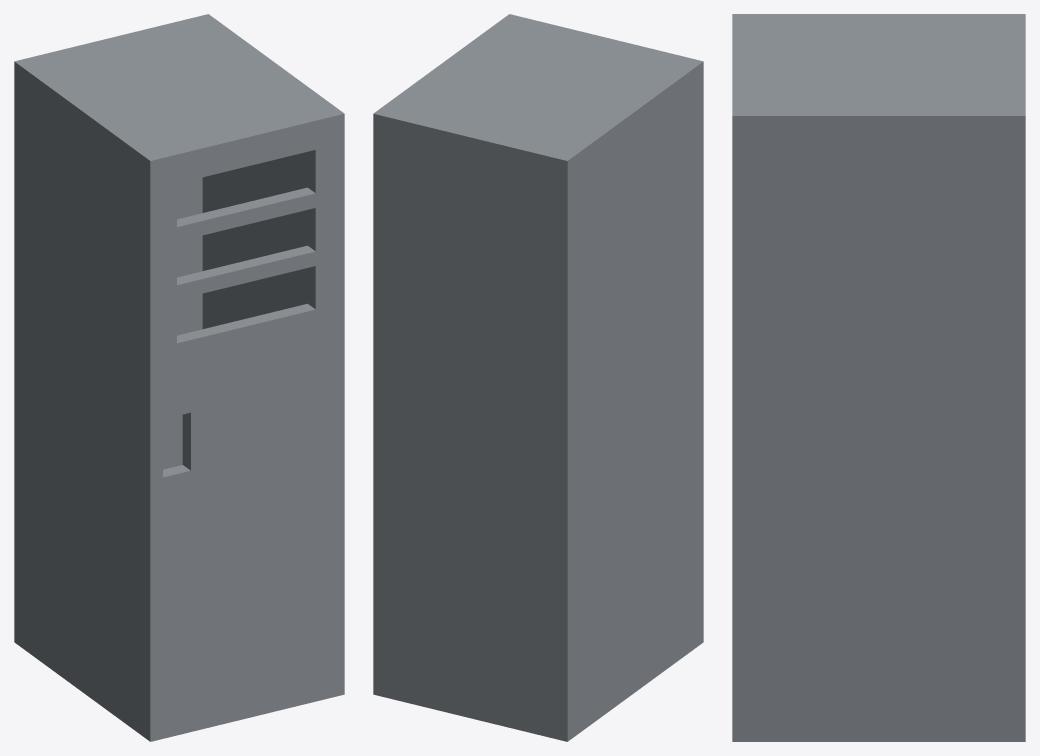
The model's file is cabinet.fbx.
The picture shows the model from 3 angles, left to right: view 1: azimuth 30°, elevation 25°; view 2: azimuth 150°, elevation 25°; view 3: azimuth 270°, elevation 25°; orthographic projection. The views are drawn at different scales.
Parts seen in each view (by area): view 1: cabinet, cabinet_door; view 2: cabinet, cabinet_door; view 3: cabinet, cabinet_door.
Boxes of the visible parts, <box> form: cabinet: <box>14,14,336,735</box>; cabinet_door: <box>142,108,344,741</box>; cabinet: <box>373,20,695,741</box>; cabinet_door: <box>501,14,703,647</box>; cabinet: <box>749,14,1025,741</box>; cabinet_door: <box>732,14,749,741</box>.
Bounding box in the file's own units: 0.6078 × 1.74 × 0.738.
